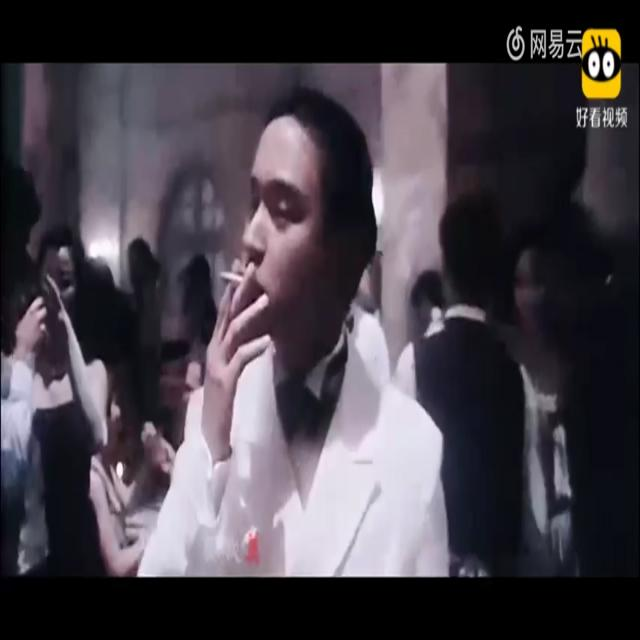smoke: (215, 264, 252, 291)
